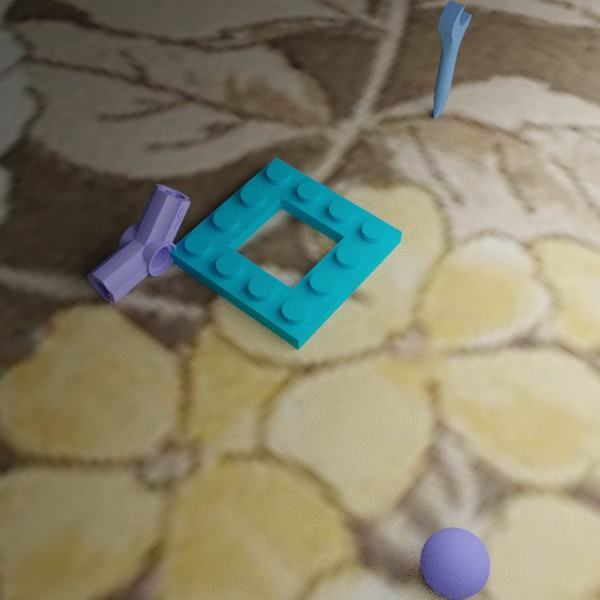lego: (168, 157, 402, 350), (87, 184, 190, 303), (420, 527, 490, 600), (432, 0, 471, 119)
